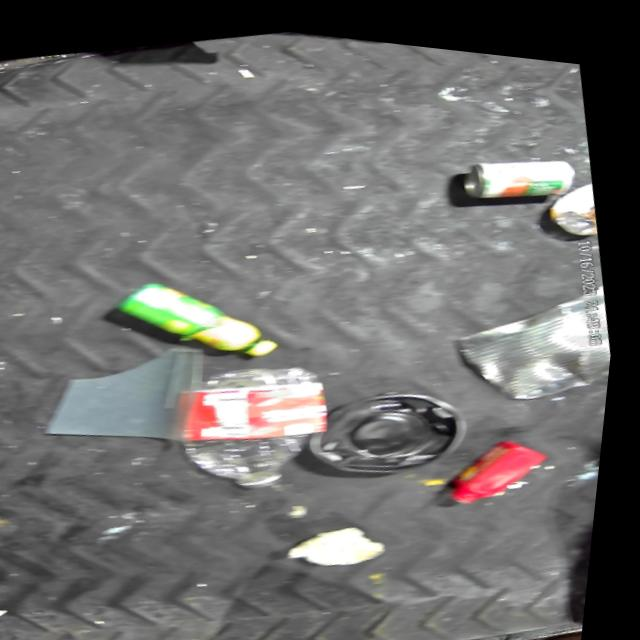can: (447, 263, 622, 407), (458, 130, 583, 204)
non_white_jug: (449, 413, 564, 503)
plastic_bottle: (173, 339, 355, 503)
